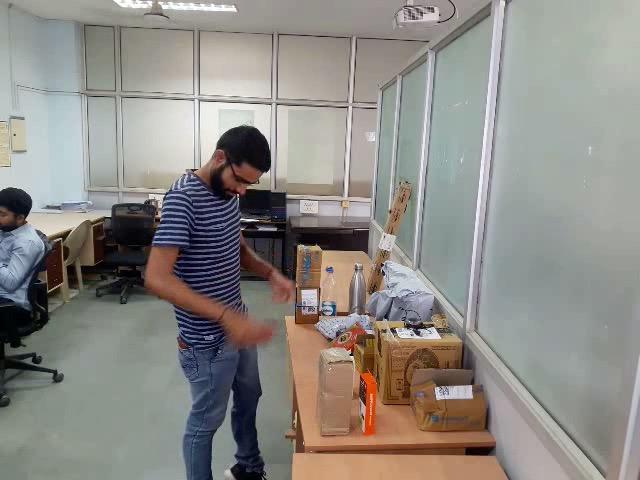Normal: (81, 78, 586, 480)
